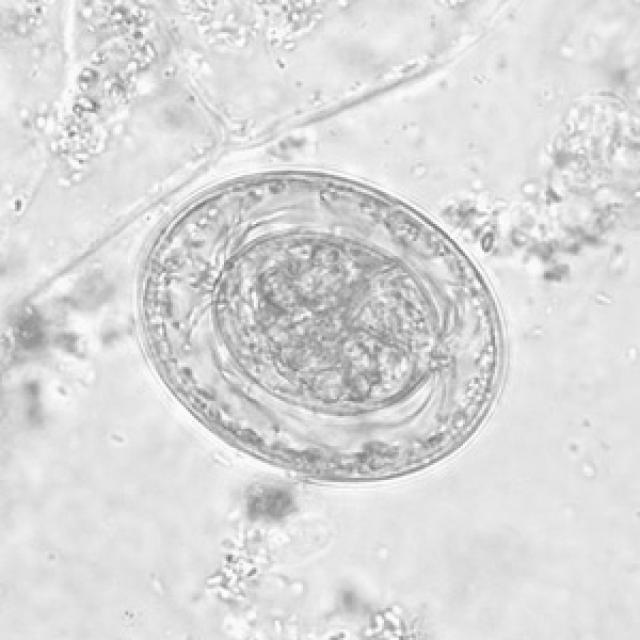Hymenolepis: (124, 158, 507, 480)
